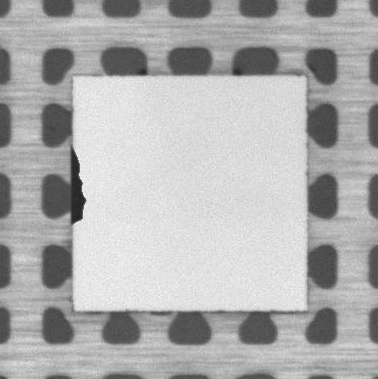DIE_BROKEN: (68, 148, 89, 230)
